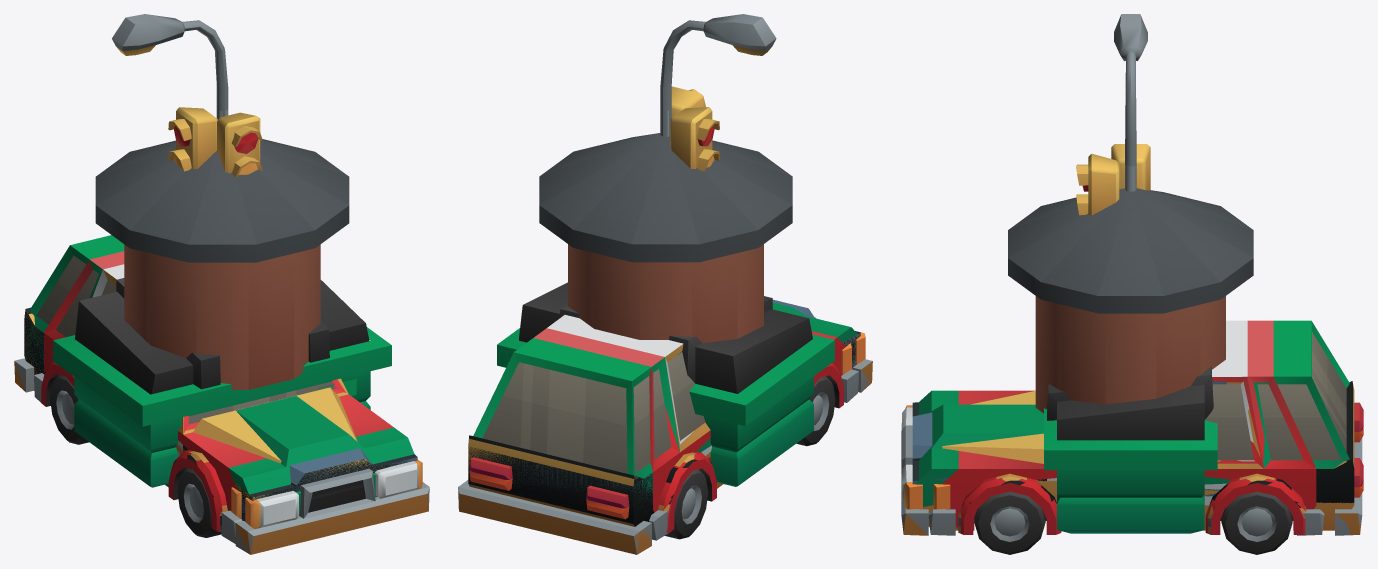
Rendered from kk-city.glb.
The picture shows the model from 3 angles, left to right: view 1: azimuth 30°, elevation 25°; view 2: azimuth 150°, elevation 25°; view 3: azimuth 270°, elevation 25°; orthographic projection. The views are drawn at different scales.
Visible parts, largest first — view 1: watertower, dumpster, Cube.13728, Cube.1023, Cube.13730, Cube.1022, Cube.13729, trafficlight_A, streetlight, car_hatchback_wheel_front_right, car_hatchback_wheel_rear_right; view 2: watertower, dumpster, Cube.13728, Cube.1022, Cube.1023, Cube.13730, Cube.13729, streetlight, trafficlight_A, car_hatchback_wheel_rear_right, car_hatchback_wheel_front_right; view 3: watertower, dumpster, Cube.13728, Cube.13730, Cube.1022, Cube.1023, trafficlight_A, car_hatchback_wheel_front_left, car_hatchback_wheel_rear_left, streetlight, Cube.13729.
Part boxes in pixels (x1,y1,x2,y2): watertower: (95,139,349,389); dumpster: (53,278,391,487); Cube.13728: (24,235,414,515); Cube.1023: (14,269,429,554); Cube.13730: (34,251,393,543); Cube.1022: (14,264,429,553); Cube.13729: (14,311,429,554); trafficlight_A: (168,107,262,177); streetlight: (112,14,228,119); car_hatchback_wheel_front_right: (177,468,221,537); car_hatchback_wheel_rear_right: (50,374,87,444); watertower: (539,133,792,343); dumpster: (497,282,834,486); Cube.13728: (473,302,857,503); Cube.1022: (458,315,870,547); Cube.1023: (458,333,872,554); Cube.13730: (534,328,858,540); Cube.13729: (458,299,872,553); streetlight: (660,14,776,136); trafficlight_A: (660,86,719,171); car_hatchback_wheel_rear_right: (667,469,708,539); car_hatchback_wheel_front_right: (796,376,835,446); watertower: (1008,188,1253,413); dumpster: (1044,366,1217,533); Cube.13728: (912,320,1349,527); Cube.13730: (928,320,1324,535); Cube.1022: (901,320,1362,509); Cube.1023: (901,382,1363,535); trafficlight_A: (1076,144,1150,215); car_hatchback_wheel_front_left: (974,491,1045,554); car_hatchback_wheel_rear_left: (1221,491,1292,554); streetlight: (1114,14,1147,189); Cube.13729: (901,381,1363,535).
Size of the model in its own units: 0.5659 by 1.02 by 0.9381.
Materials: 1 (1 with a texture image).
